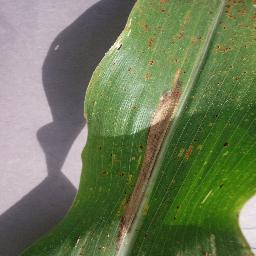Corn_Blight: (152, 59, 188, 115), (77, 65, 109, 124), (141, 114, 177, 160), (215, 0, 256, 35), (122, 0, 168, 31), (116, 189, 147, 225), (177, 231, 222, 254), (86, 226, 118, 256), (127, 160, 157, 188), (97, 34, 122, 63), (179, 139, 206, 164), (170, 14, 186, 42), (119, 226, 132, 255), (210, 43, 232, 54), (74, 232, 84, 256), (94, 171, 125, 177), (232, 72, 245, 86), (147, 33, 159, 48), (108, 150, 120, 164), (242, 43, 255, 53), (223, 140, 233, 151), (122, 63, 132, 74), (142, 231, 150, 241), (96, 144, 106, 151), (196, 32, 202, 43), (173, 204, 183, 210), (171, 217, 179, 222)
